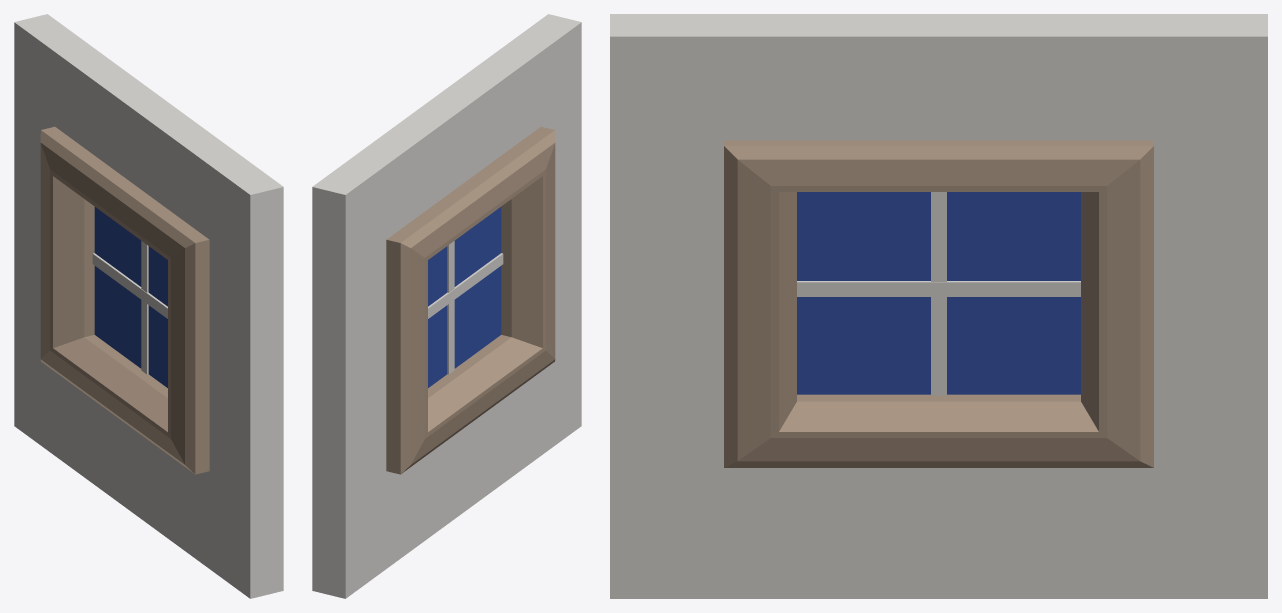
Rendered from Window02_house01.obj.
The picture shows the model from 3 angles, left to right: view 1: azimuth 30°, elevation 25°; view 2: azimuth 150°, elevation 25°; view 3: azimuth 270°, elevation 25°; orthographic projection. The views are drawn at different scales.
Parts seen in each view (by area): view 1: Window02_House01_Cube.001; view 2: Window02_House01_Cube.001; view 3: Window02_House01_Cube.001.
Part boxes in pixels (x1,y1,x2,y2): Window02_House01_Cube.001: (14, 14, 283, 598); Window02_House01_Cube.001: (312, 14, 581, 598); Window02_House01_Cube.001: (610, 14, 1267, 598).
Size of the model in its own units: 0.5479 by 3 by 3.19.
